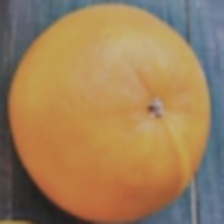orange: (16, 46, 178, 208)
